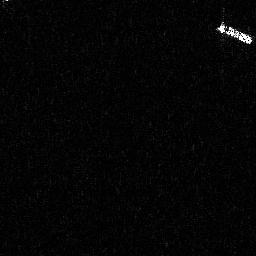ship: (216, 20, 252, 45)
